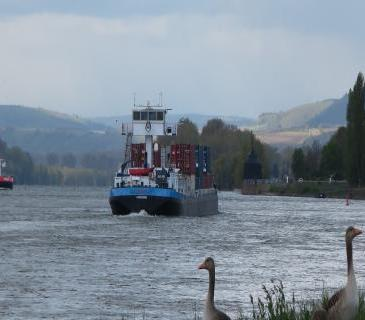Ship: (91, 74, 227, 226), (0, 147, 28, 197)
